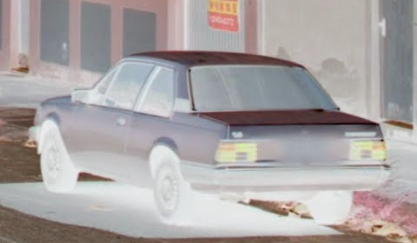car: (30, 51, 391, 226)
